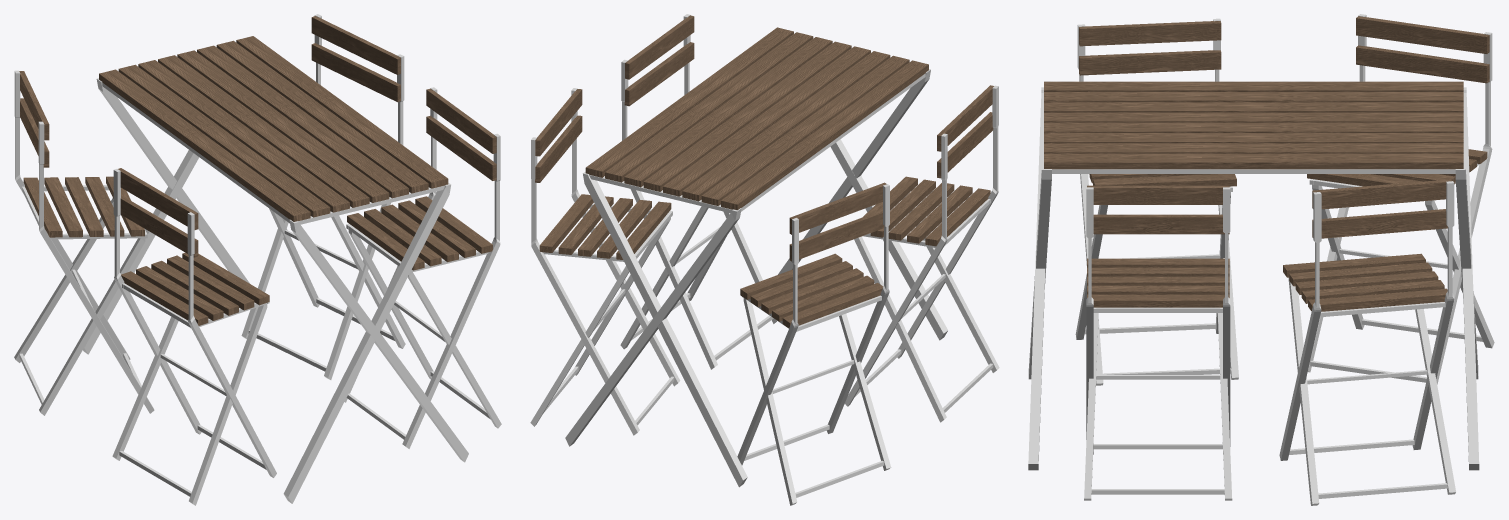
3 views of the same model, side by side, from view 1: azimuth 30°, elevation 25°; view 2: azimuth 150°, elevation 25°; view 3: azimuth 270°, elevation 25° (orthographic). The views are drawn at different scales.
Visible parts, largest first — view 1: Table; view 2: Table; view 3: Table.
Part boxes in pixels (left/top/right/bottom): Table: left=14, top=14, right=501, bottom=505; Table: left=530, top=14, right=999, bottom=505; Table: left=1028, top=14, right=1494, bottom=505.
Bounding box in the file's own units: 66.74 × 49.6 × 61.25.
2 materials, 1 textured.
